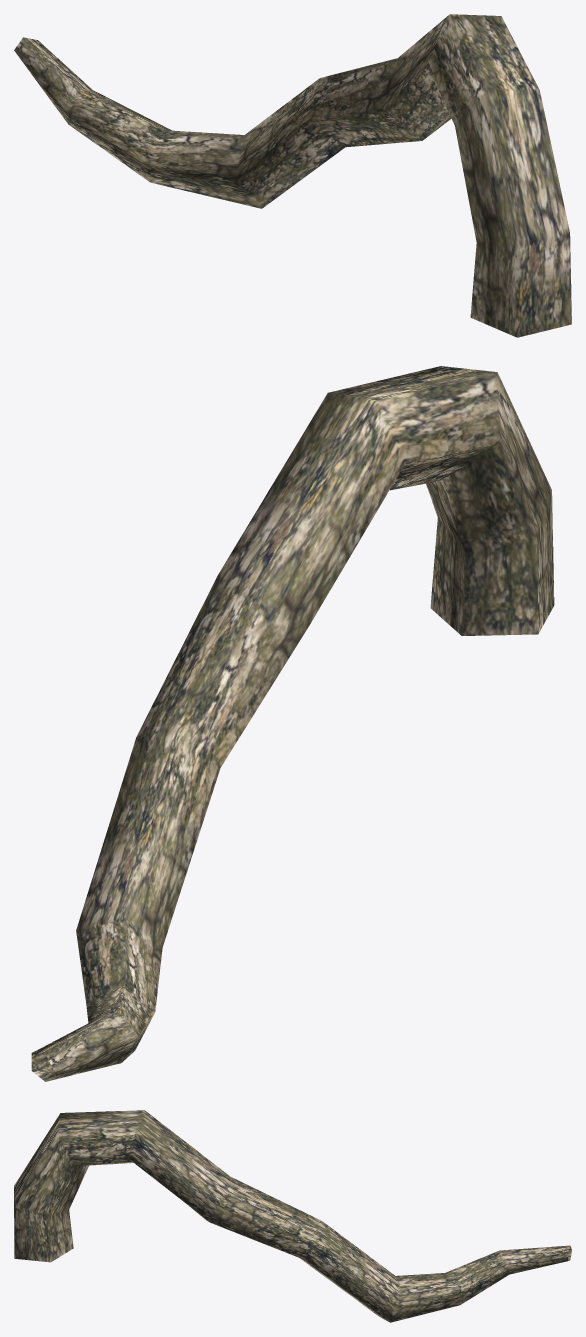
Rendered from OVERHILL_A_01_LINE84.fbx.
3 renders of one model, top to bottom at view 1: azimuth 30°, elevation 25°; view 2: azimuth 150°, elevation 25°; view 3: azimuth 270°, elevation 25°, orthographic. The views are drawn at different scales.
Parts seen in each view (by area): view 1: OVERHILL_A_01_LINE84; view 2: OVERHILL_A_01_LINE84; view 3: OVERHILL_A_01_LINE84.
Part boxes in pixels (<box>): OVERHILL_A_01_LINE84: <box>14,14,571,337</box>; OVERHILL_A_01_LINE84: <box>31,366,554,1081</box>; OVERHILL_A_01_LINE84: <box>14,1110,571,1322</box>.
Size of the model in its own units: 22343 by 44680 by 109605.
Materials: 1 (1 with a texture image).
